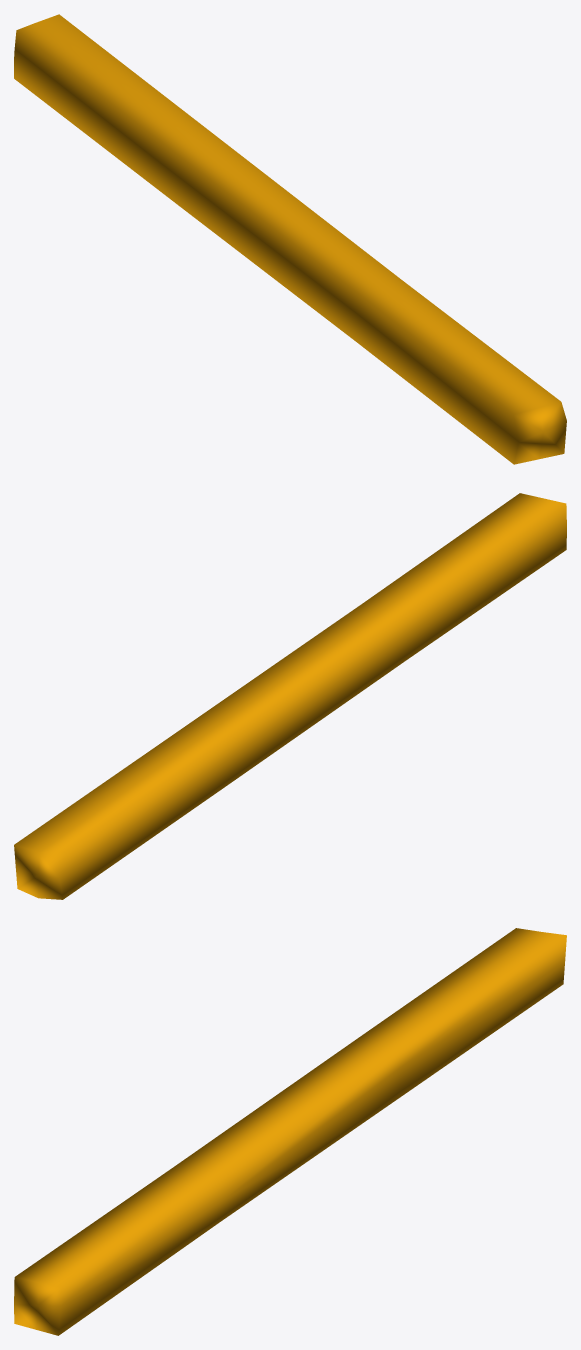
The model's file is Beam_04.fbx.
3 views of the same model, one above another, from view 1: azimuth 30°, elevation 25°; view 2: azimuth 150°, elevation 25°; view 3: azimuth 330°, elevation 25° (orthographic). The views are drawn at different scales.
Visible parts, largest first — view 1: Beam_04; view 2: Beam_04; view 3: Beam_04.
Part boxes in pixels (x1=…): Beam_04: x1=14, y1=14, x2=566, y2=464; Beam_04: x1=14, y1=493, x2=566, y2=899; Beam_04: x1=14, y1=928, x2=566, y2=1335.
Size of the model in its own units: 25.96 by 19.06 by 343.
